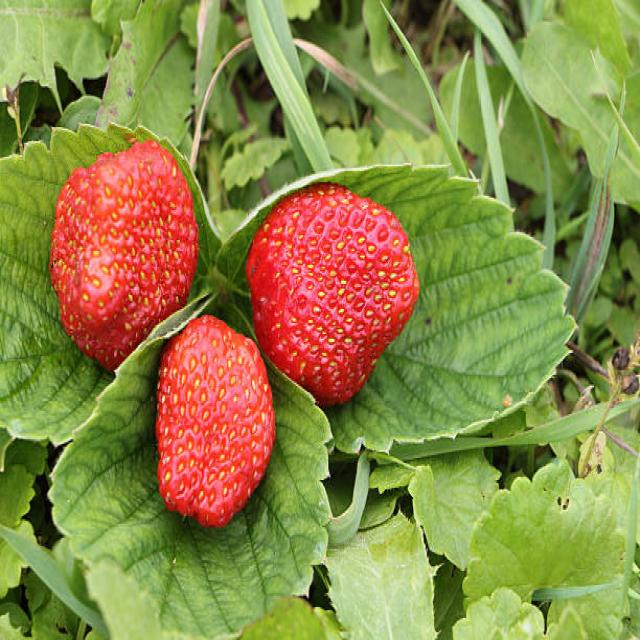Healthy Fruit: (248, 186, 420, 403), (49, 137, 198, 373), (155, 314, 276, 527)
